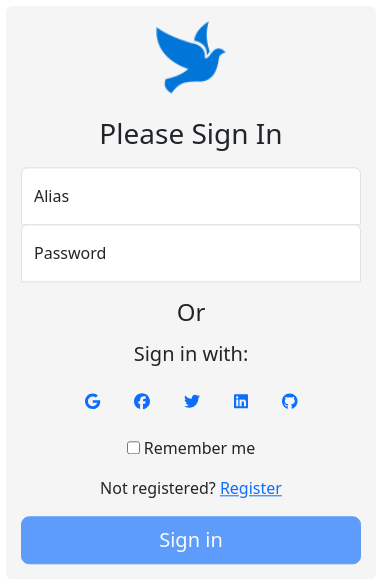
Test case: Login Component › enables the sign in button if either alias or password field is cleared
Type "alias" into the field labelled "Alias" at (191, 196), box [21,167,361,225]
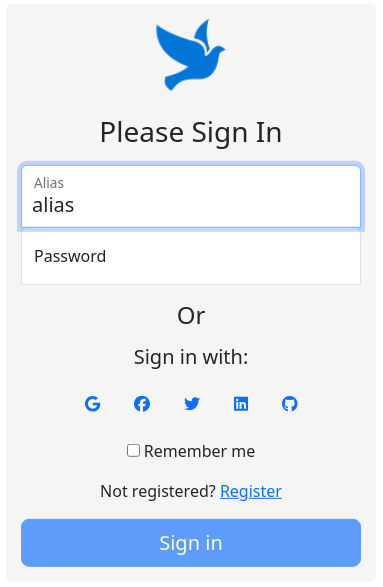
Type "password" into the password field labelled "Password" at (191, 255), box [21,226,361,284]
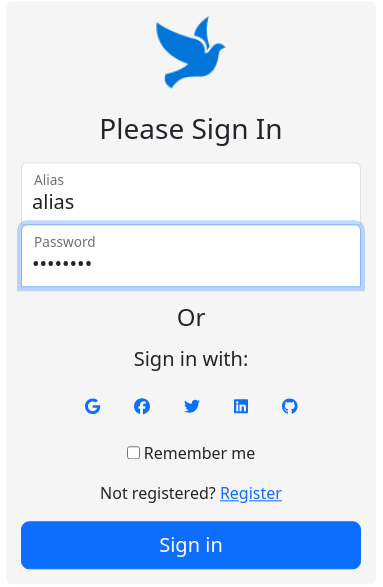
Result: the button "Sign in" is enabled at [21,522,361,570]
Clear the field labelled "Alias" at (191, 193), box [21,162,361,225]
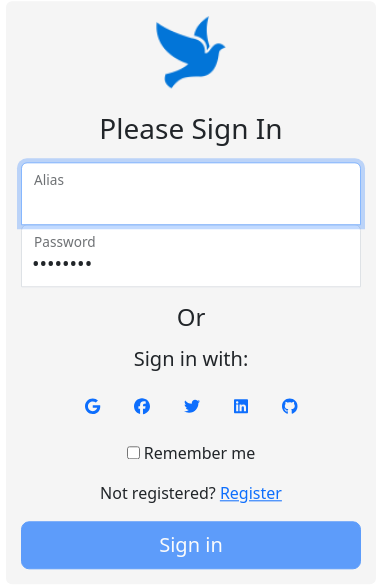
Result: the button "Sign in" is disabled at [21,522,361,570]
Type "alias here" into the field labelled "Alias" at (191, 193), box [21,162,361,225]
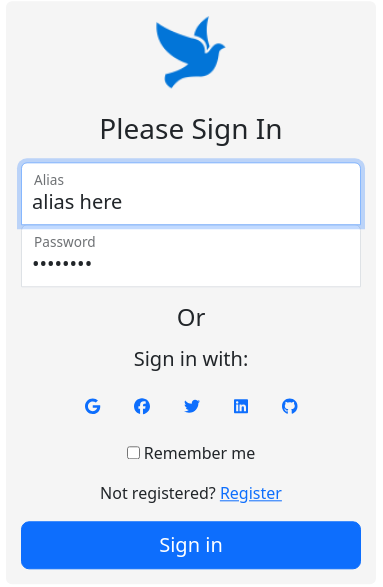
Result: the button "Sign in" is enabled at [21,522,361,570]
Clear the password field labelled "Password" at (191, 255), box [21,224,361,287]
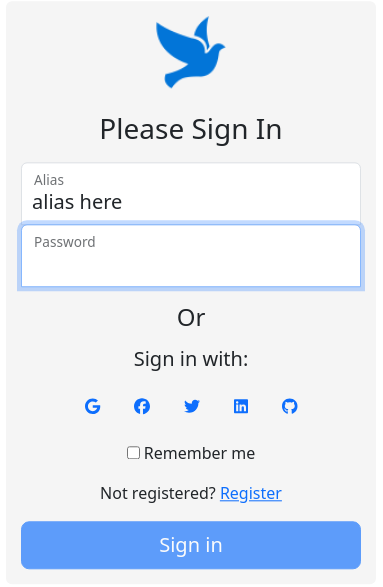
Result: the button "Sign in" is disabled at [21,522,361,570]
